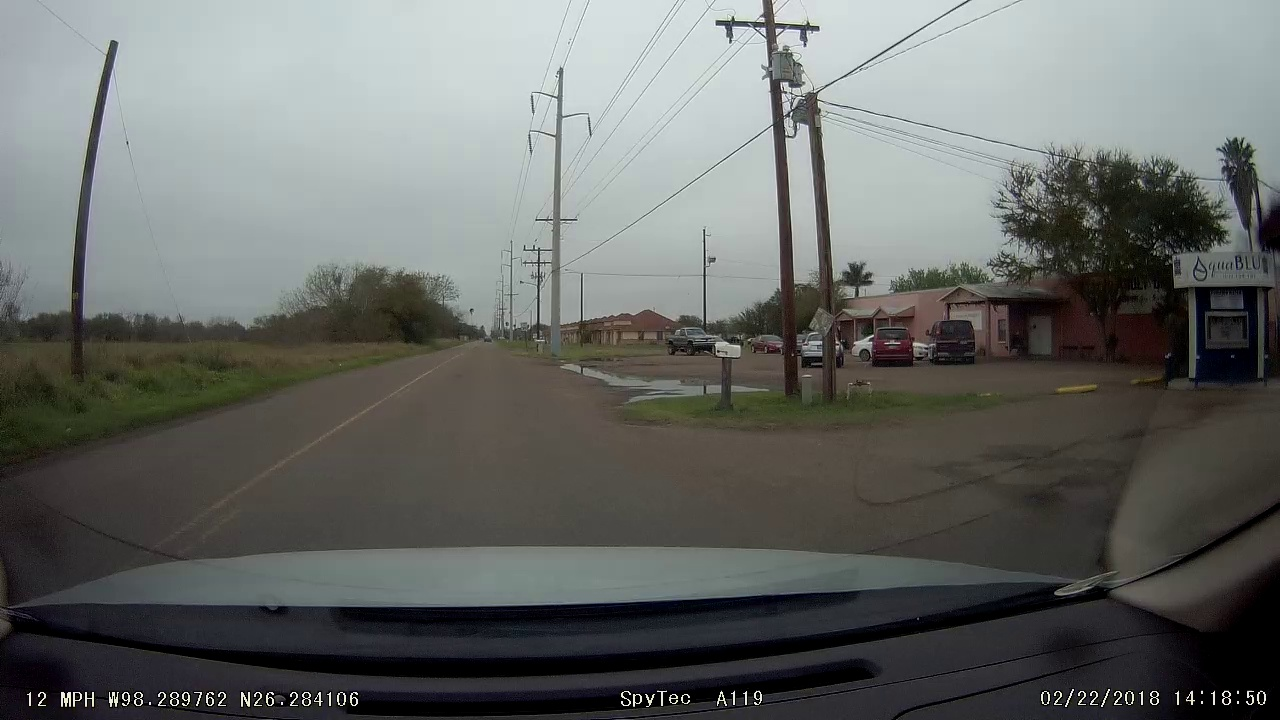blurredLine: (289, 384, 417, 450)
